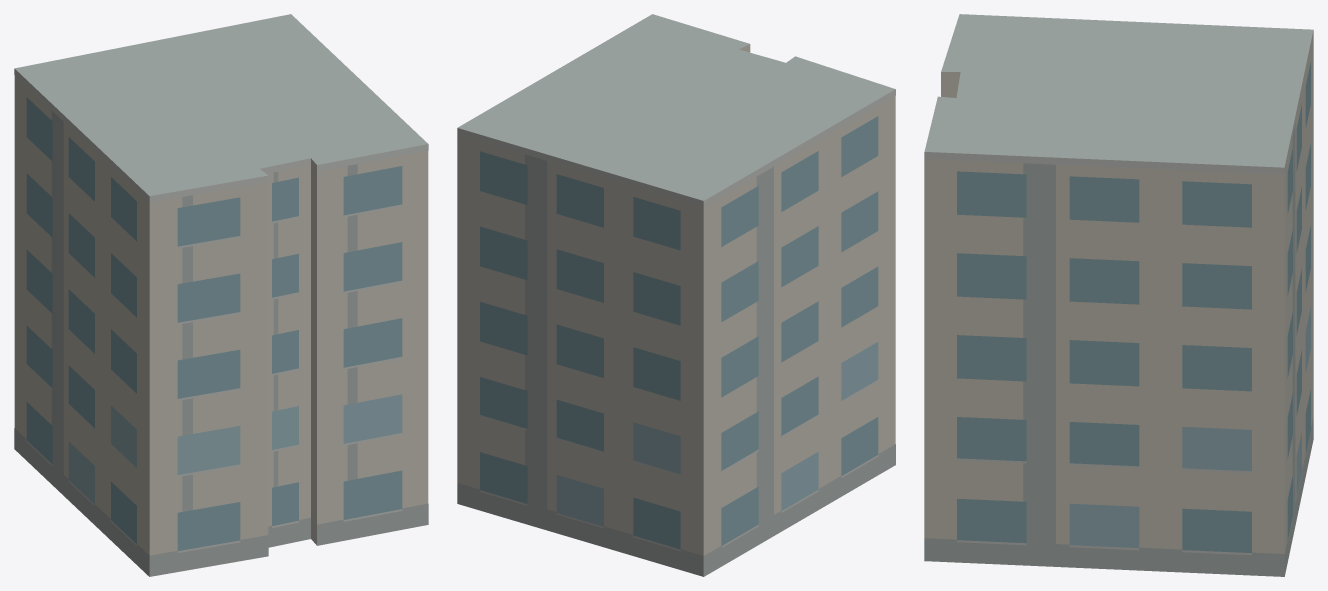
The model's file is survey-upis-32824091.glb.
3 renders of one model, left to right at view 1: azimuth 30°, elevation 25°; view 2: azimuth 150°, elevation 25°; view 3: azimuth 270°, elevation 25°, orthographic. The views are drawn at different scales.
Parts seen in each view (by area): view 1: survey-upis-32824091.tmp; view 2: survey-upis-32824091.tmp; view 3: survey-upis-32824091.tmp.
Part boxes in pixels (<box>): survey-upis-32824091.tmp: <box>14,14,428,576</box>; survey-upis-32824091.tmp: <box>457,14,895,576</box>; survey-upis-32824091.tmp: <box>924,14,1313,576</box>.
Bounding box in the file's own units: 11.36 × 14.1 × 12.16.
